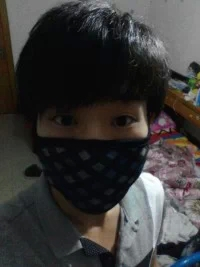face_mask: (39, 64, 146, 214)
